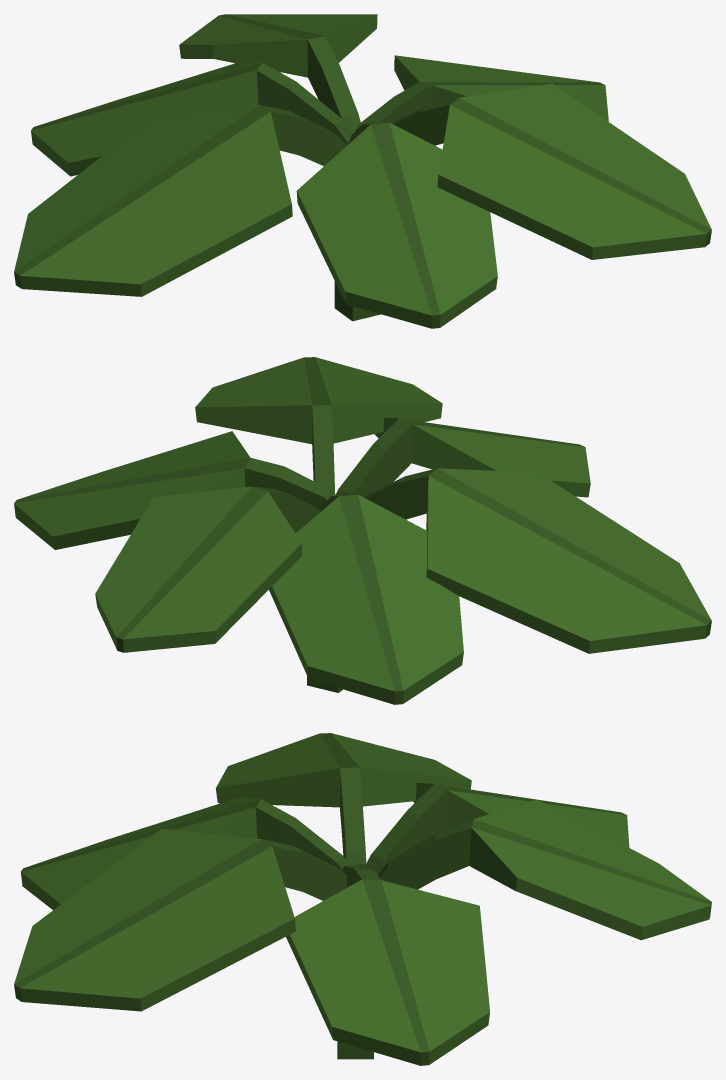
The model's file is DecorePlant2.fbx.
3 views of the same model, one above another, from view 1: azimuth 30°, elevation 25°; view 2: azimuth 150°, elevation 25°; view 3: azimuth 270°, elevation 25° (orthographic). The views are drawn at different scales.
Parts seen in each view (by area): view 1: B1; view 2: B1; view 3: B1.
Boxes of the visible parts, x1=… form: B1: x1=14, y1=14, x2=711, y2=328; B1: x1=14, y1=357, x2=711, y2=704; B1: x1=14, y1=733, x2=711, y2=1065.
Bounding box in the file's own units: 2.75 × 0.9443 × 2.54.
